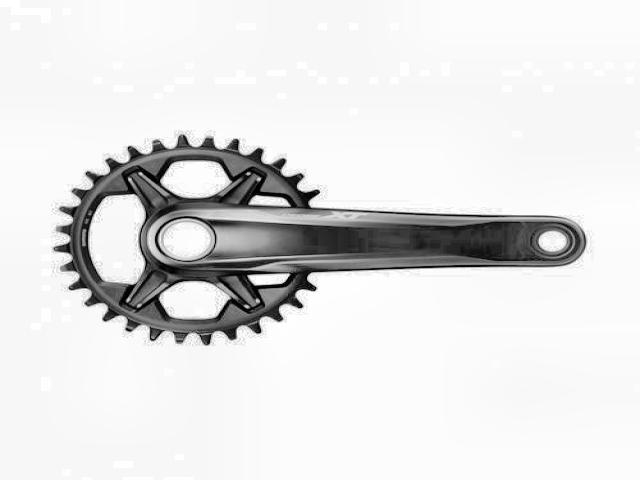cranks_set: (52, 129, 591, 346)
